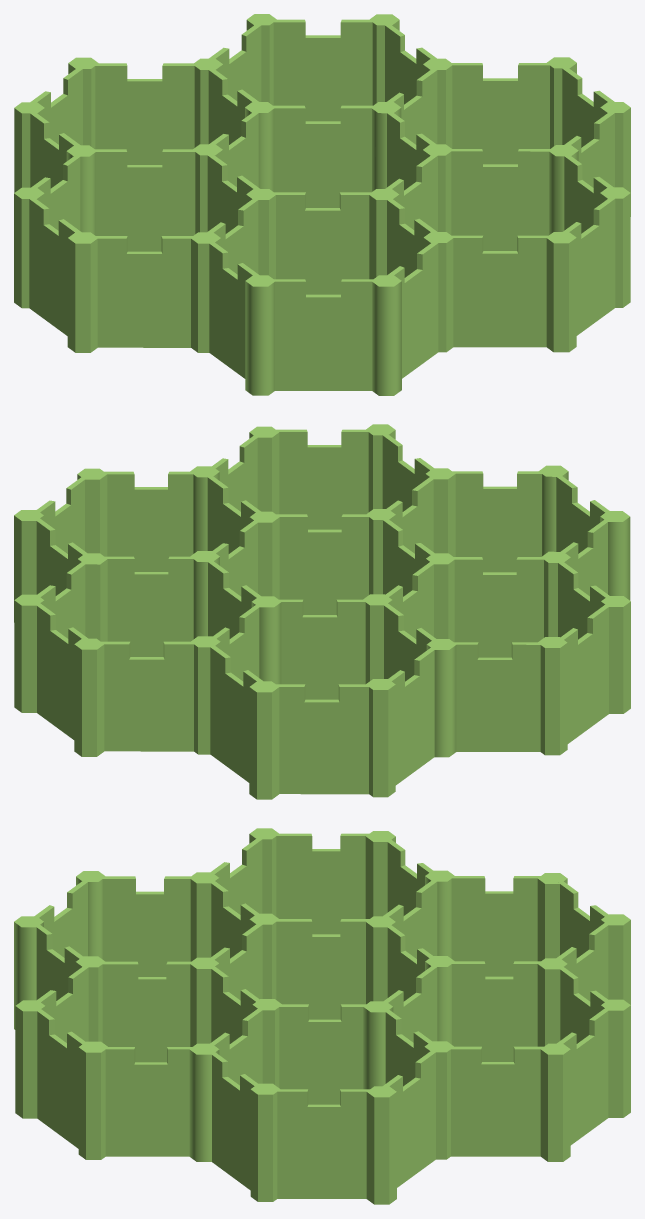
The model's file is sandControlGrass_fbx.fbx.
3 renders of one model, top to bottom at view 1: azimuth 30°, elevation 25°; view 2: azimuth 150°, elevation 25°; view 3: azimuth 270°, elevation 25°, orthographic.
Parts seen in each view (by area): view 1: SandControlGrass; view 2: SandControlGrass; view 3: SandControlGrass.
Boxes of the visible parts, x1=… form: SandControlGrass: x1=14, y1=14, x2=630, y2=395; SandControlGrass: x1=14, y1=424, x2=630, y2=799; SandControlGrass: x1=14, y1=828, x2=630, y2=1204.
Bounding box in the file's own units: 1167 × 217 × 1131.
